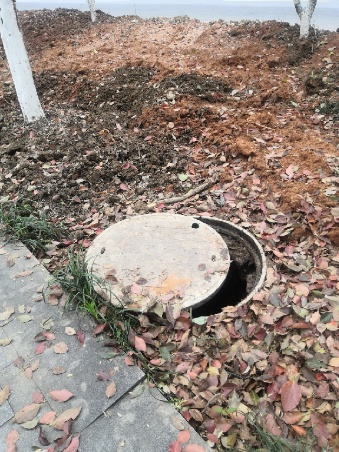uncovered: (86, 211, 267, 321)
